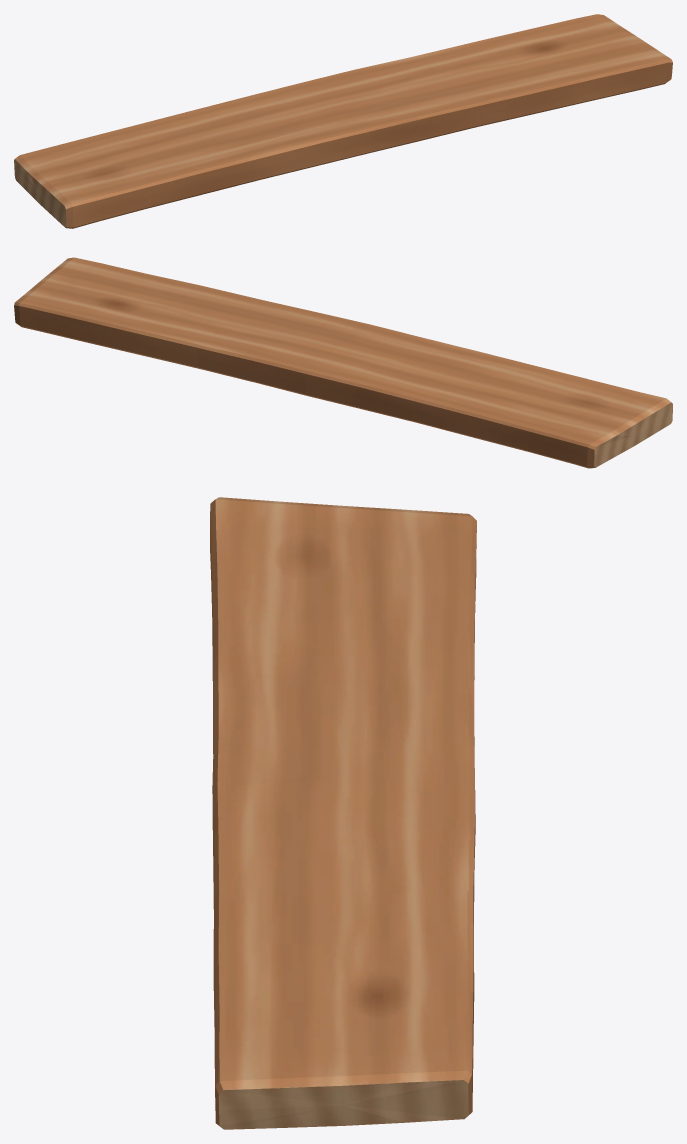
File: SM_Plank_web.glb
The picture shows the model from 3 angles, top to bottom: view 1: azimuth 30°, elevation 25°; view 2: azimuth 150°, elevation 25°; view 3: azimuth 270°, elevation 25°; orthographic projection. The views are drawn at different scales.
Visible parts, largest first — view 1: SM_Plank; view 2: SM_Plank; view 3: SM_Plank.
Boxes of the visible parts, x1,y1,x2,y2 form: SM_Plank: (14, 14, 672, 228); SM_Plank: (14, 257, 672, 468); SM_Plank: (210, 497, 476, 1129).
Size of the model in its own units: 1.15 by 0.0532 by 0.2208.
Materials: 1 (1 with a texture image).
